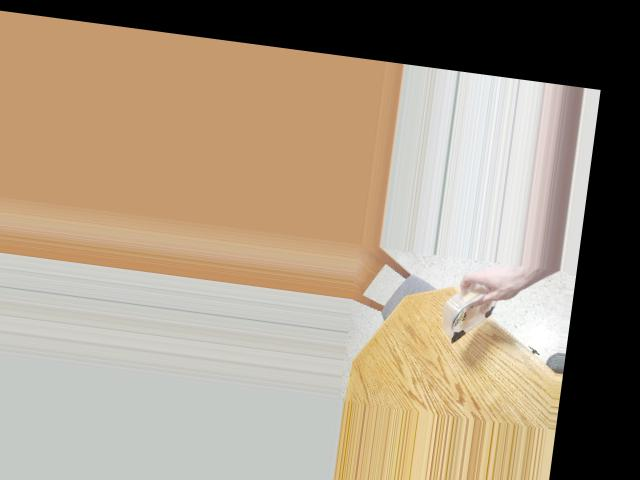cheese: (427, 275, 519, 346)
